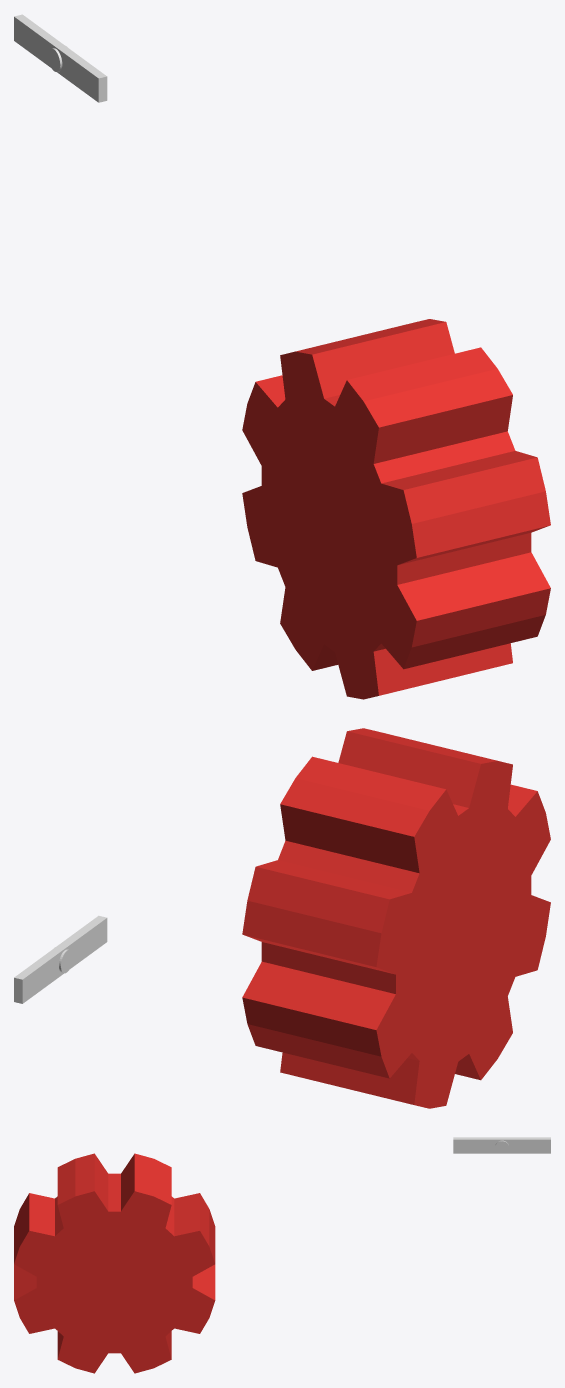
Rendered from 场景未压缩.glb.
The picture shows the model from 3 angles, top to bottom: view 1: azimuth 30°, elevation 25°; view 2: azimuth 150°, elevation 25°; view 3: azimuth 270°, elevation 25°; orthographic projection. The views are drawn at different scales.
Parts seen in each view (by area): view 1: Cylinder.001, Cube, Cube.001; view 2: Cylinder.001, Cube.001, Cube; view 3: Cylinder.001, Cube, Cube.001.
Part boxes in pixels (x1=…): Cylinder.001: x1=242, y1=319, x2=550, y2=699; Cube: x1=50, y1=41, x2=107, y2=102; Cube.001: x1=14, y1=14, x2=69, y2=75; Cylinder.001: x1=242, y1=728, x2=550, y2=1108; Cube.001: x1=14, y1=942, x2=70, y2=1003; Cube: x1=51, y1=915, x2=107, y2=976; Cylinder.001: x1=14, y1=1153, x2=215, y2=1373; Cube: x1=453, y1=1137, x2=509, y2=1153; Cube.001: x1=495, y1=1137, x2=550, y2=1153.
Bounding box in the file's own units: 2.76 × 7.37 × 16.59.
